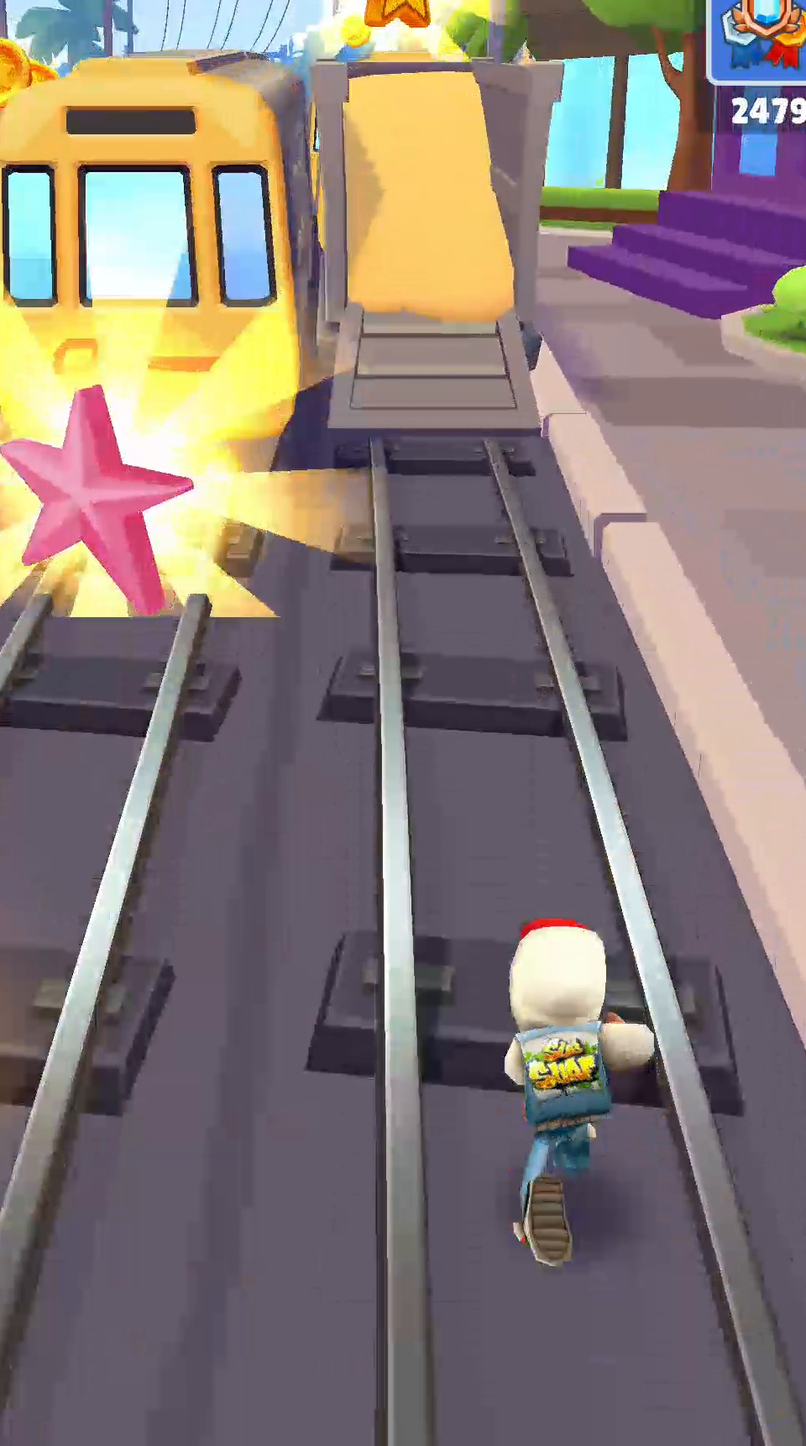climber: (315, 57, 558, 435)
train: (0, 52, 317, 450)
